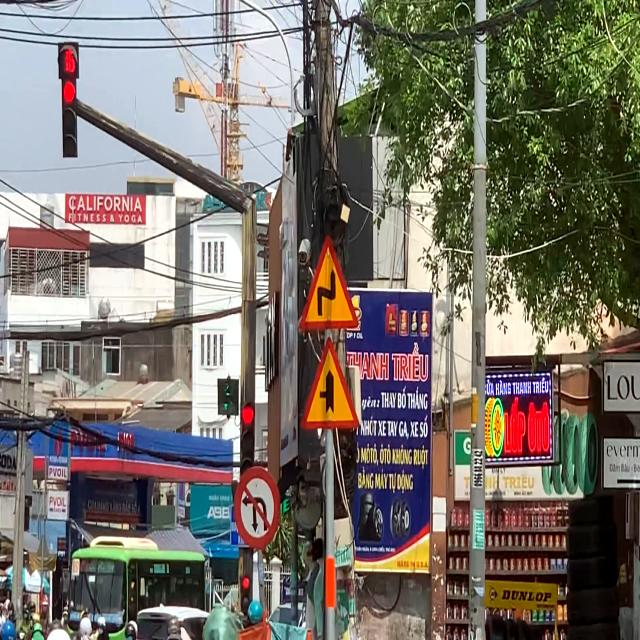P.124c: (233, 465, 280, 551)
W.202b: (300, 233, 360, 332)
W.207c: (300, 335, 360, 431)
